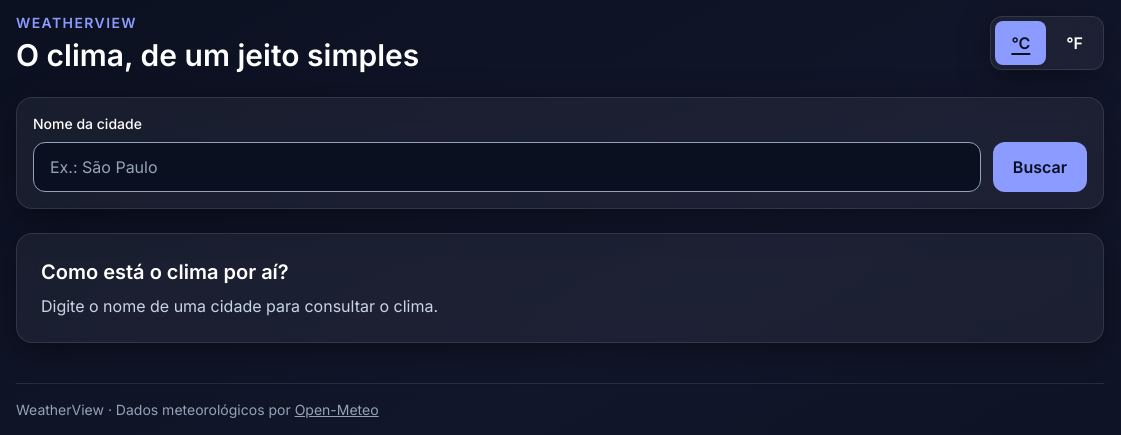
App integrado › apresenta vazio sem consultar forecast
Type "Atlantis" into the search field at (507, 167), box [33,142,981,192]
Then press Enter
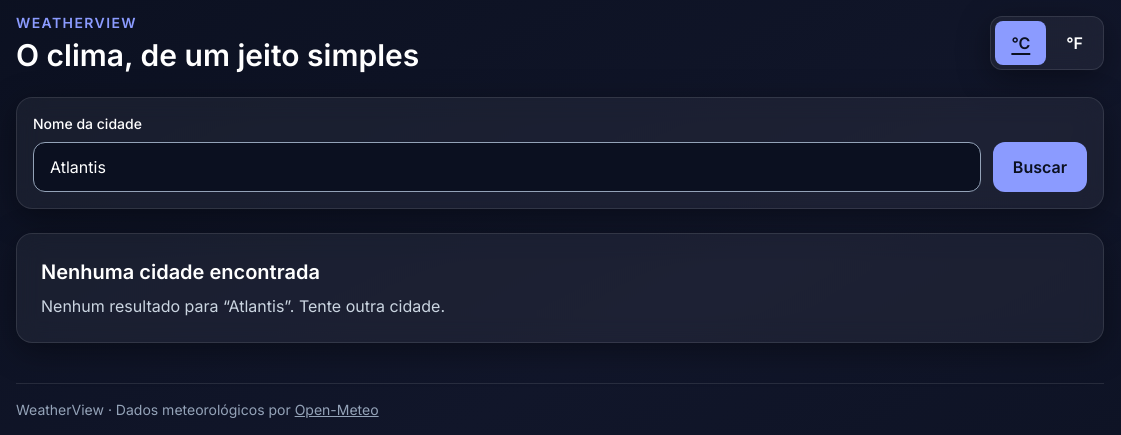
Result: the heading "Nenhuma cidade encontrada" is shown at [41,260,320,284]
